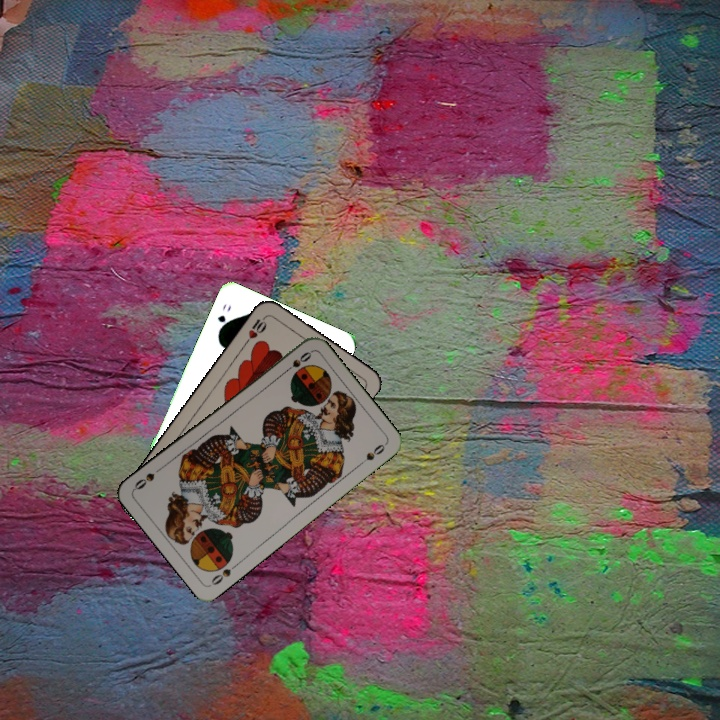GO: (213, 300, 234, 336)
H10: (241, 311, 270, 347)
SO: (279, 348, 314, 377), (207, 559, 241, 588)
